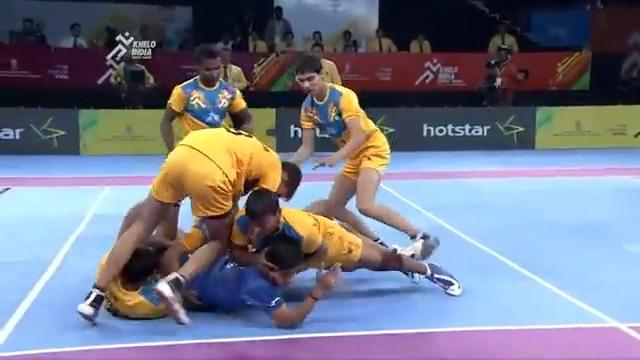Player: (76, 124, 302, 326), (287, 54, 440, 261), (230, 188, 462, 298), (159, 43, 253, 155)
Raider: (103, 219, 341, 329)
referee: (477, 43, 525, 106), (109, 50, 155, 107), (486, 20, 519, 54), (8, 17, 47, 45), (58, 21, 89, 48)
